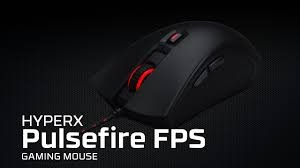mouse: (87, 15, 266, 126)
